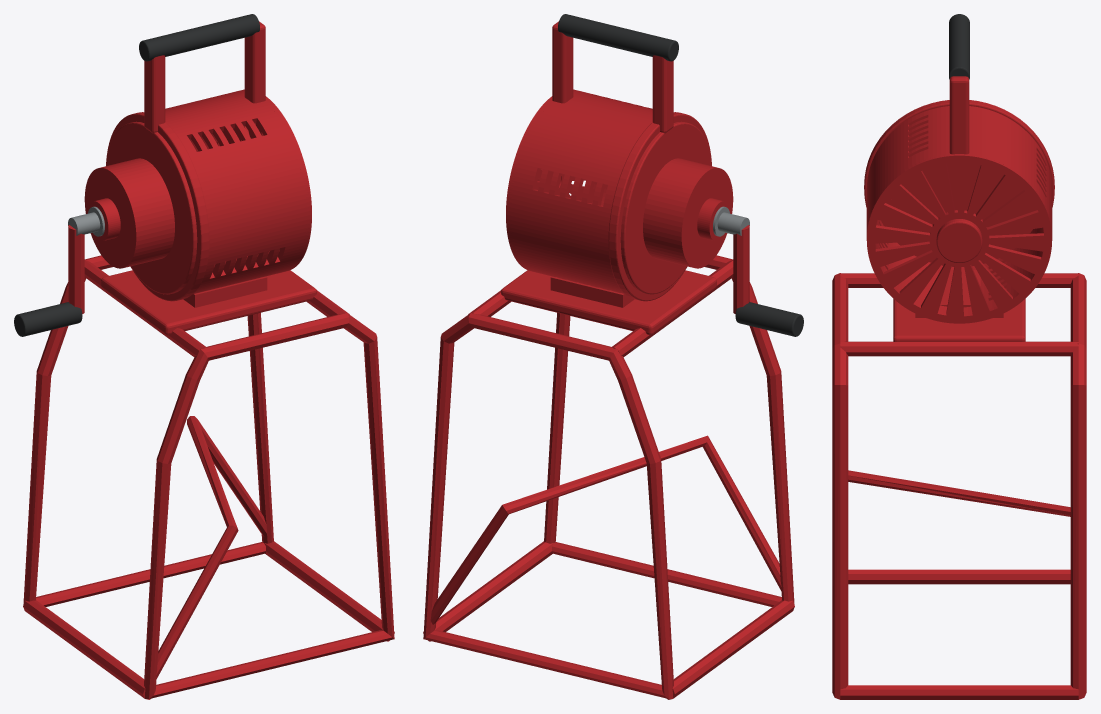
3 views of the same model, side by side, from view 1: azimuth 30°, elevation 25°; view 2: azimuth 150°, elevation 25°; view 3: azimuth 270°, elevation 25° (orthographic).
Parts seen in each view (by area): view 1: Vented thick barrel shell, bent support loop, bent support loop.001, Rear gearbox with axial bore, rear closed cover, saddle plate, lower diagonal brace, reinforced rear casing band, carry grip, frame cross tube.002, frame cross tube.003, handle post rear (+8 smaller); view 2: Vented thick barrel shell, bent support loop.001, bent support loop, Rear gearbox with axial bore, rear closed cover, saddle plate, lower diagonal brace, reinforced rear casing band, carry grip, frame cross tube.002, frame cross tube.003, handle post rear (+8 smaller); view 3: Radially slotted front plate, Vented thick barrel shell, bent support loop, bent support loop.001, reinforced rear casing band, frame cross tube.001, frame cross tube.002, frame cross tube.003, saddle plate, lower diagonal brace, front hub, handle post front (+3 smaller).
Boxes of the visible parts, left/top/right/bottom form: Vented thick barrel shell: left=165, top=90, right=309, bottom=293; bent support loop: left=144, top=313, right=394, bottom=698; bent support loop.001: left=23, top=255, right=273, bottom=606; Rear gearbox with axial bore: left=84, top=158, right=174, bottom=268; rear closed cover: left=106, top=121, right=197, bottom=294; saddle plate: left=101, top=270, right=316, bottom=335; lower diagonal brace: left=156, top=416, right=266, bottom=678; reinforced rear casing band: left=106, top=112, right=209, bottom=301; carry grip: left=139, top=14, right=259, bottom=61; frame cross tube.002: left=23, top=600, right=150, bottom=699; frame cross tube.003: left=264, top=541, right=394, bottom=641; handle post rear: left=144, top=55, right=165, bottom=133; Vented thick barrel shell: left=508, top=90, right=652, bottom=293; bent support loop.001: left=423, top=313, right=673, bottom=698; bent support loop: left=544, top=255, right=794, bottom=606; Rear gearbox with axial bore: left=643, top=158, right=733, bottom=268; rear closed cover: left=620, top=121, right=711, bottom=294; saddle plate: left=501, top=270, right=716, bottom=335; lower diagonal brace: left=430, top=435, right=781, bottom=624; reinforced rear casing band: left=608, top=112, right=711, bottom=301; carry grip: left=558, top=14, right=678, bottom=61; frame cross tube.002: left=667, top=600, right=794, bottom=699; frame cross tube.003: left=423, top=541, right=553, bottom=641; handle post rear: left=652, top=55, right=673, bottom=133; Radially slotted front plate: left=866, top=153, right=1052, bottom=323; Vented thick barrel shell: left=866, top=106, right=1052, bottom=313; bent support loop: left=832, top=273, right=848, bottom=699; bent support loop.001: left=1070, top=273, right=1086, bottom=699; reinforced rear casing band: left=864, top=100, right=1054, bottom=266; frame cross tube.001: left=840, top=341, right=1078, bottom=356; frame cross tube.002: left=848, top=569, right=1070, bottom=584; frame cross tube.003: left=840, top=685, right=1078, bottom=699; saddle plate: left=893, top=299, right=1025, bottom=341; lower diagonal brace: left=848, top=470, right=1070, bottom=516; front hub: left=936, top=219, right=982, bottom=262; handle post front: left=949, top=76, right=969, bottom=154.
Size of the model in its own units: 0.4098 by 0.746 by 0.288.
